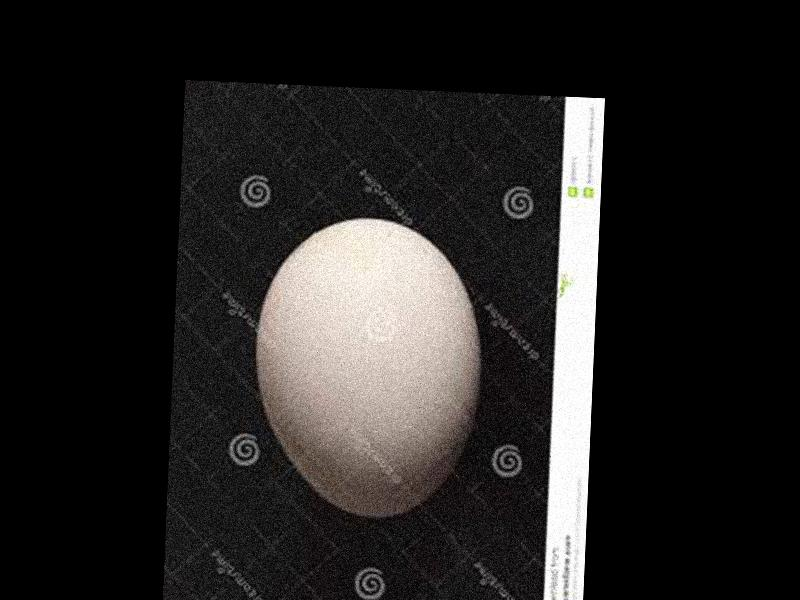Eggs: (249, 211, 486, 522)
